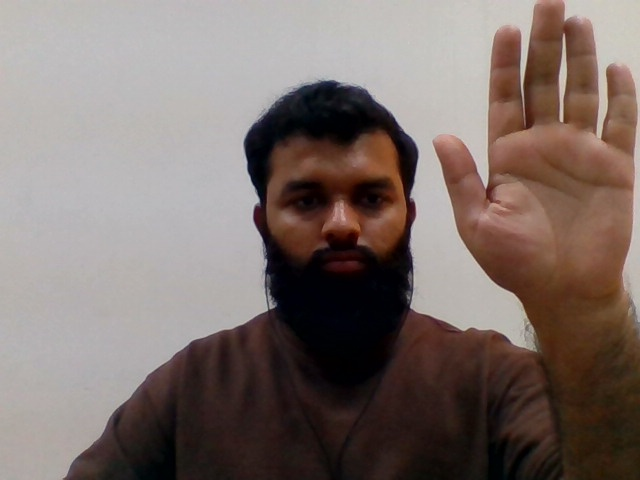Hello: (432, 1, 640, 314)
